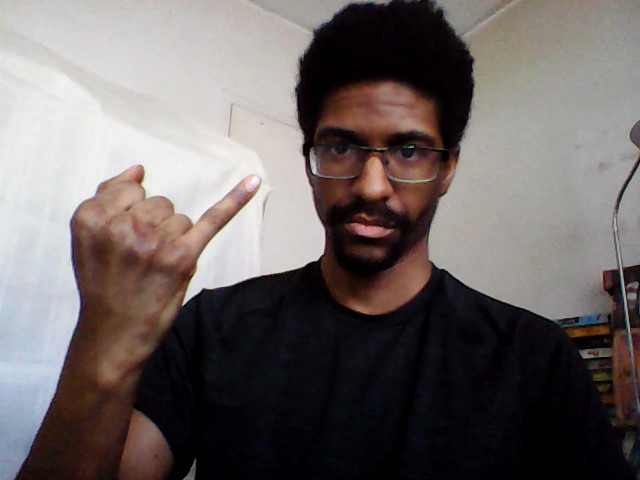j: (64, 158, 267, 370)
